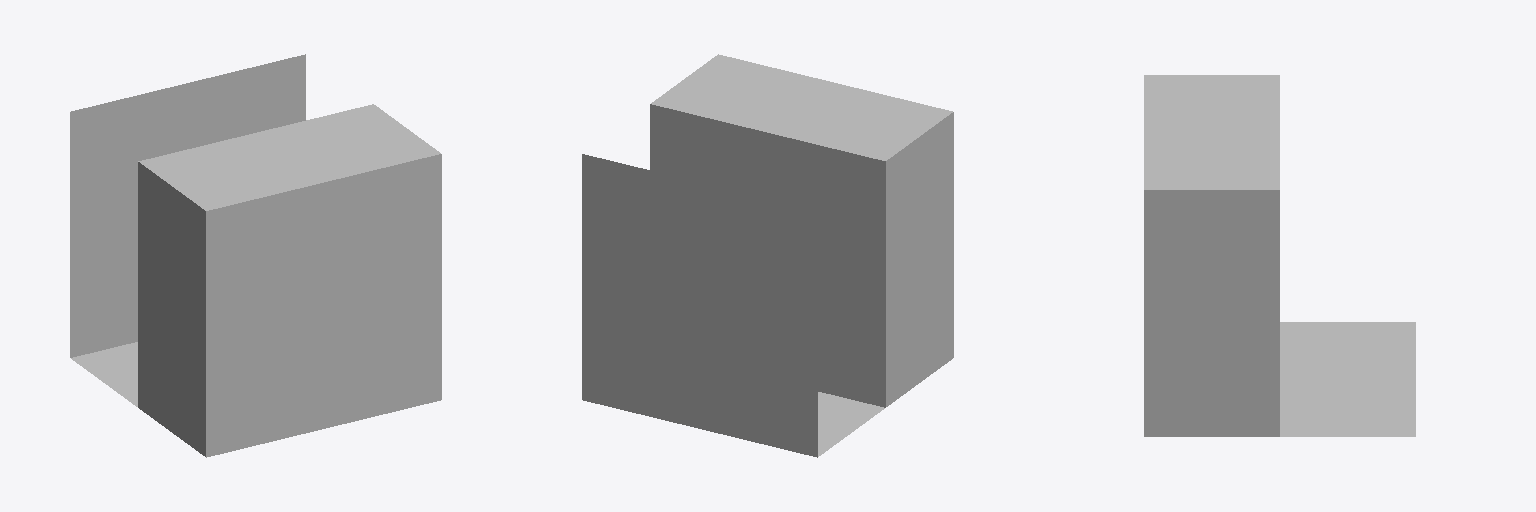
The model's file is server.obj.
3 views of the same model, side by side, from view 1: azimuth 30°, elevation 25°; view 2: azimuth 150°, elevation 25°; view 3: azimuth 270°, elevation 25° (orthographic).
Parts seen in each view (by area): view 1: cube.001, cube.000, cube; view 2: cube.001, cube.000, cube; view 3: cube.001, cube.
Boxes of the visible parts, x1=… form: cube.001: x1=138, y1=104, x2=441, y2=457; cube.000: x1=70, y1=54, x2=305, y2=357; cube: x1=71, y1=342, x2=137, y2=406; cube.001: x1=650, y1=54, x2=953, y2=407; cube.000: x1=582, y1=154, x2=817, y2=457; cube: x1=818, y1=392, x2=884, y2=456; cube.001: x1=1144, y1=75, x2=1279, y2=436; cube: x1=1280, y1=322, x2=1415, y2=436.
Size of the model in its own units: 1 by 1 by 1.